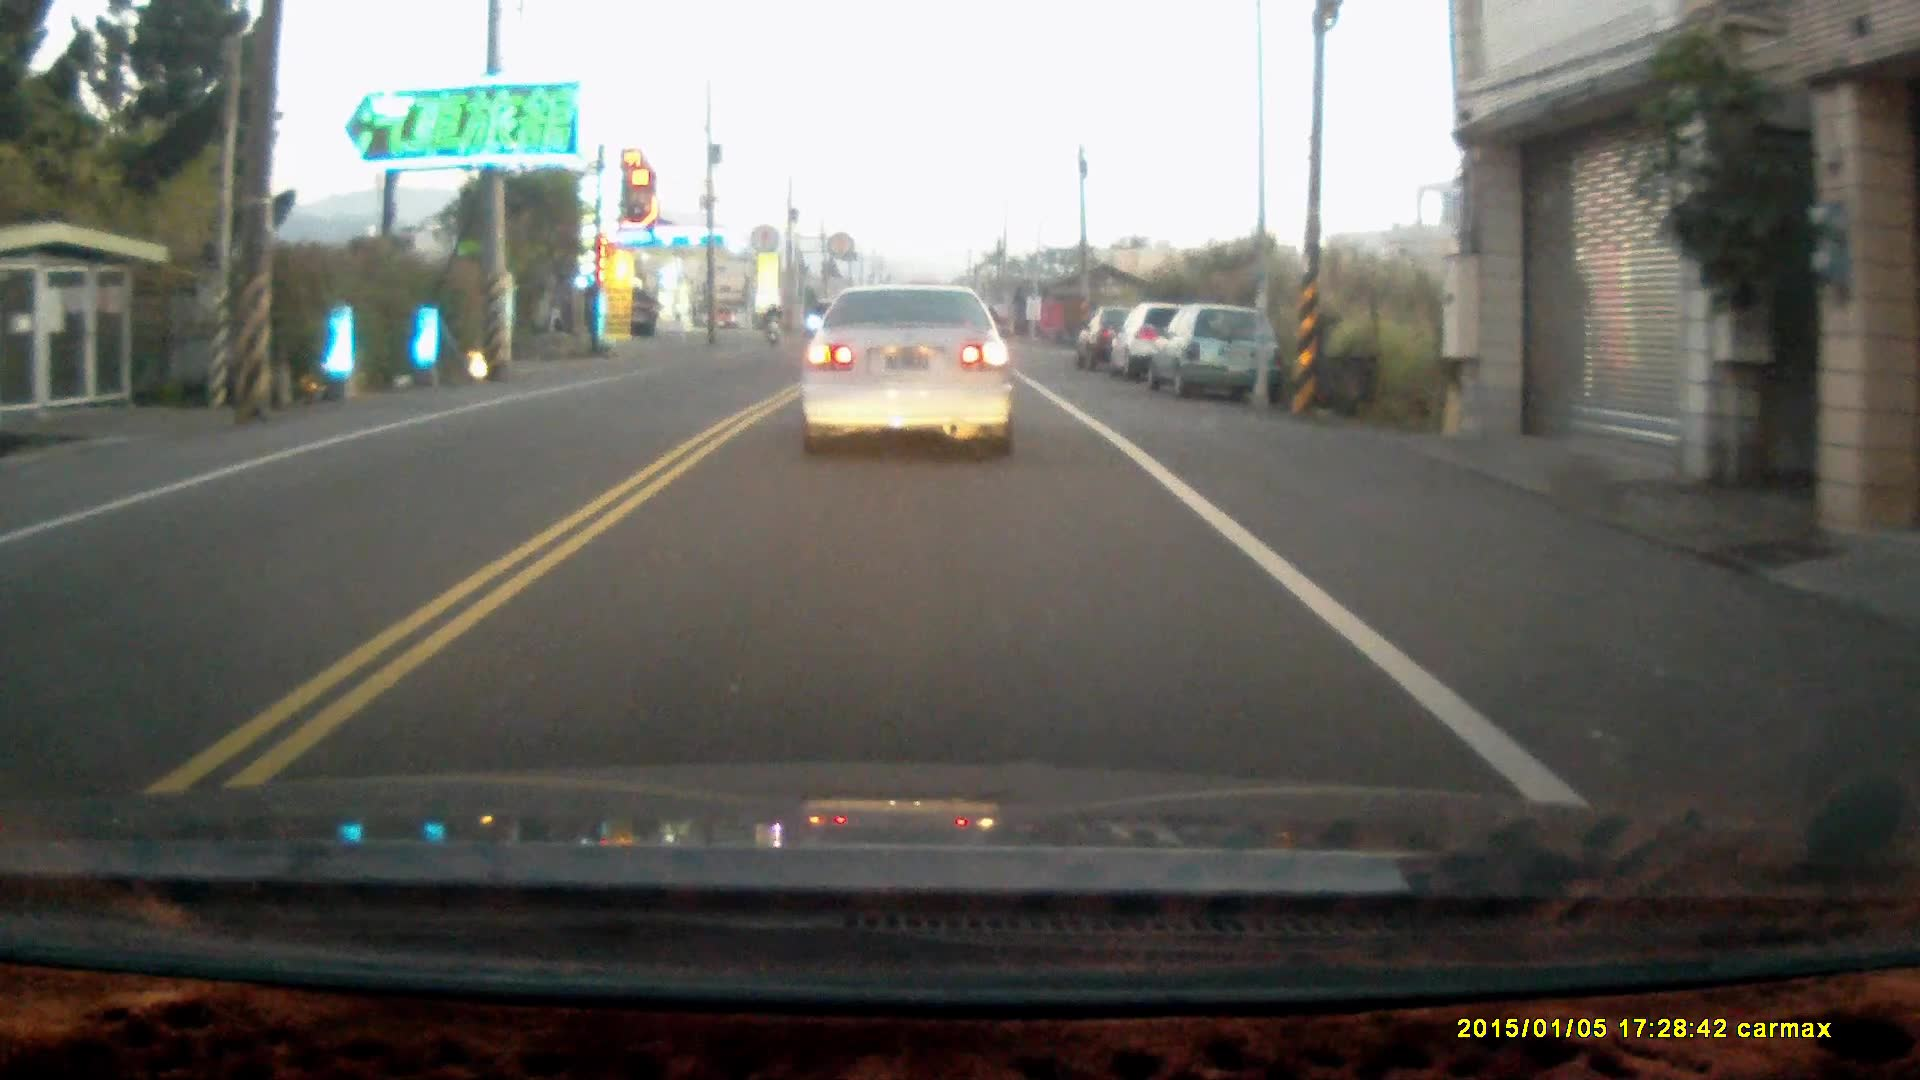vehicle: (799, 278, 1015, 463), (1156, 306, 1283, 406), (1117, 301, 1222, 380), (1077, 309, 1174, 375)
